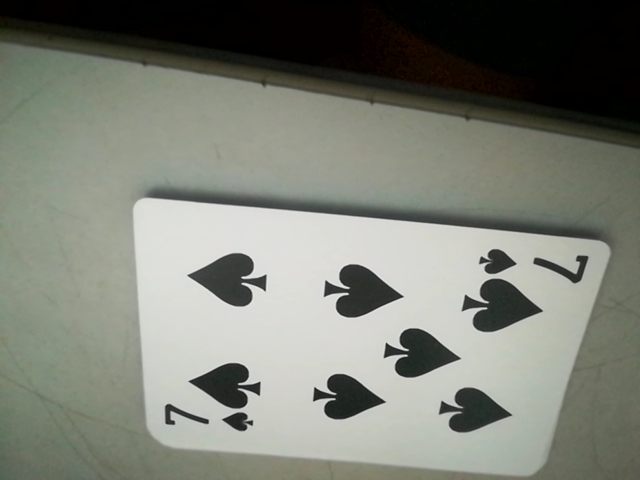ht 7: (474, 239, 593, 283), (150, 399, 262, 443)
